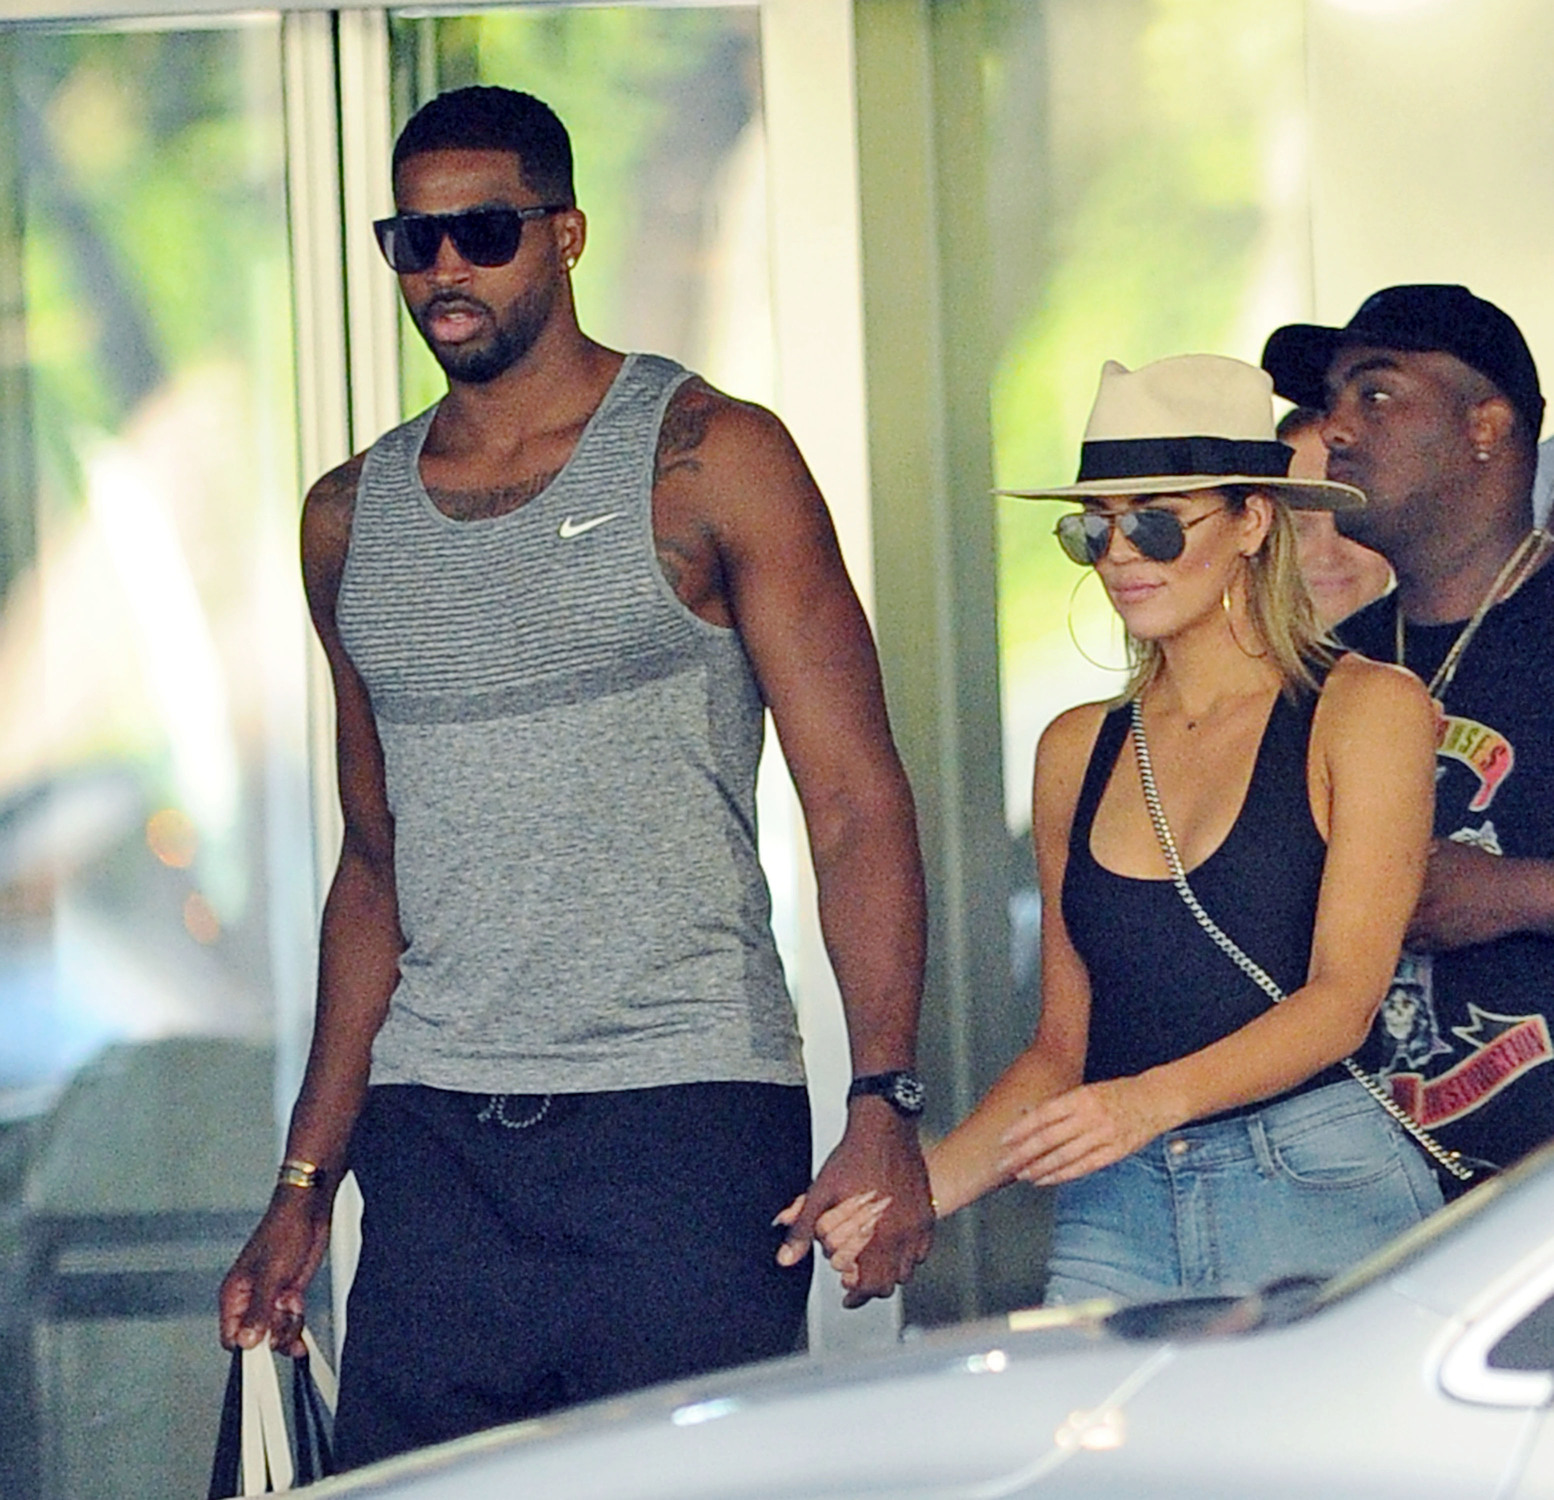Person: (223, 88, 915, 1403), (1015, 326, 1415, 1280)
